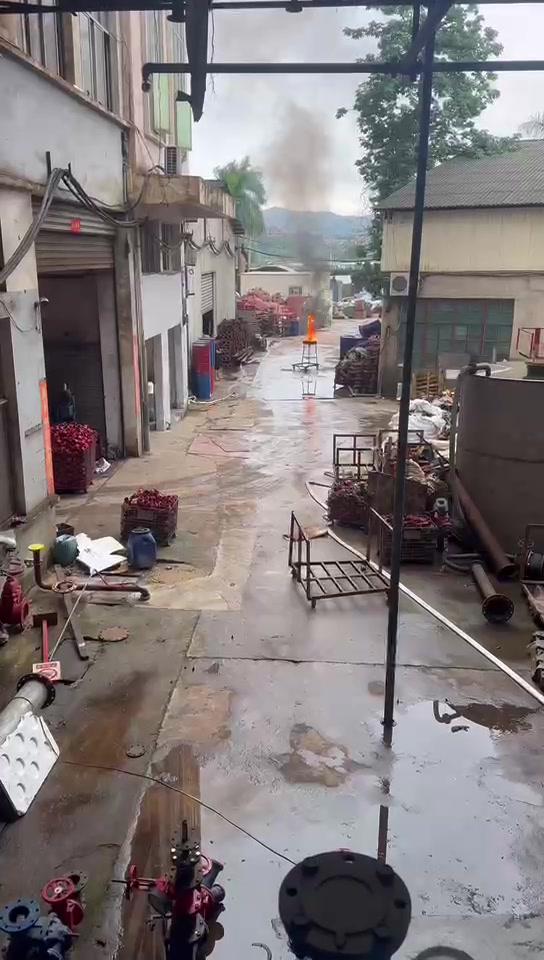fire: (302, 313, 317, 342)
